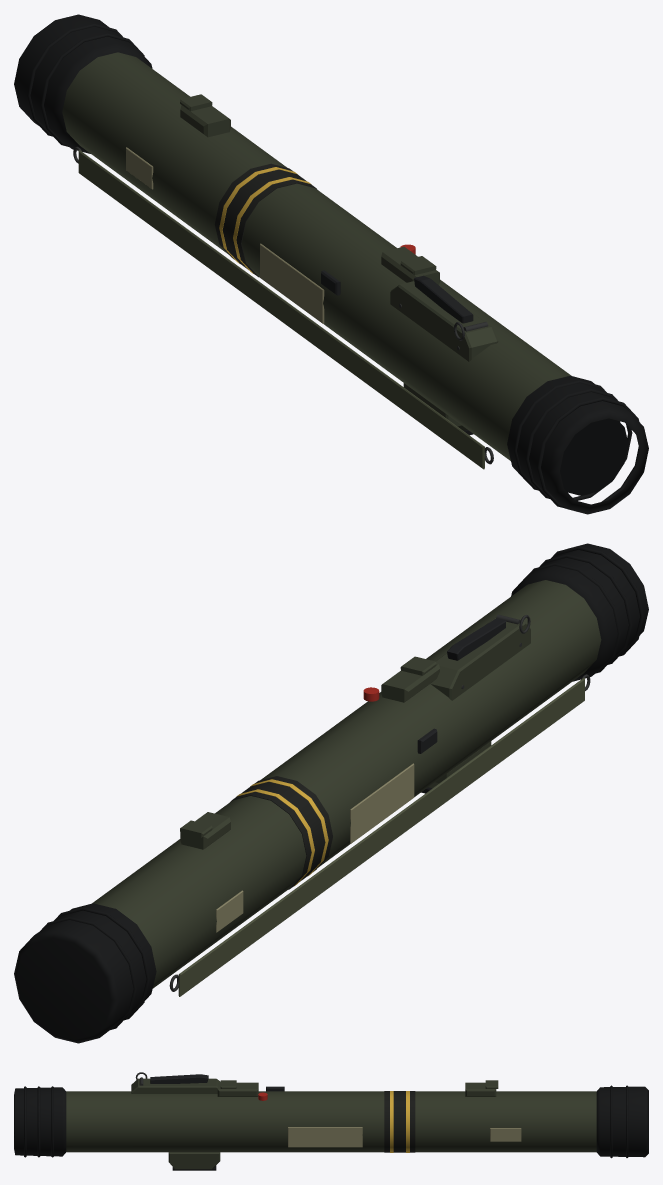
File: weapon-8-G0E_Twpn.glb
3 views of the same model, one above another, from view 1: azimuth 30°, elevation 25°; view 2: azimuth 150°, elevation 25°; view 3: azimuth 270°, elevation 25° (orthographic). The views are drawn at different scales.
Visible parts, largest first — view 1: salient_weapon_body; view 2: salient_weapon_body; view 3: salient_weapon_body.
Boxes of the visible parts, x1,y1,x2,y2 form: salient_weapon_body: (14,14,648,514); salient_weapon_body: (14,543,648,1043); salient_weapon_body: (14,1072,648,1170).
Size of the model in its own units: 0.12 by 0.1503 by 1.02.
